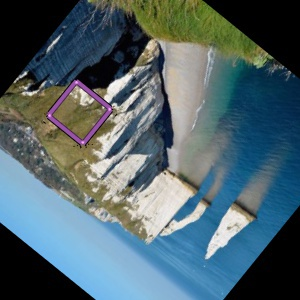square: (45, 77, 115, 147)
